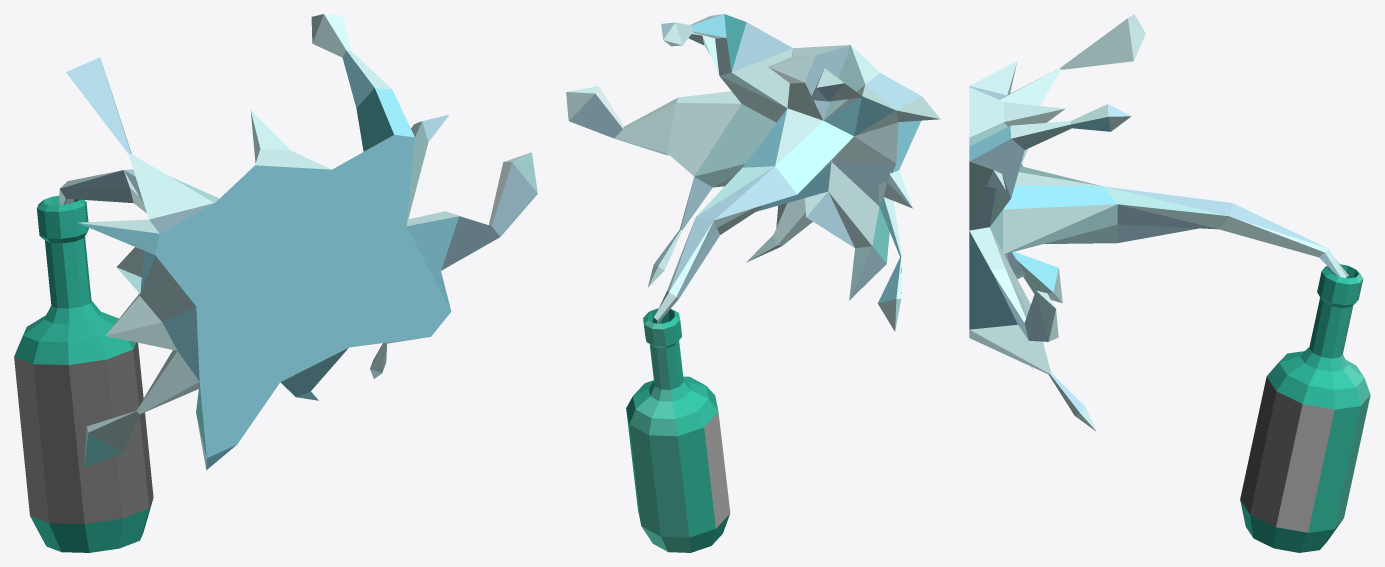
Rendered from statue_4.fbx.
3 renders of one model, left to right at view 1: azimuth 30°, elevation 25°; view 2: azimuth 150°, elevation 25°; view 3: azimuth 270°, elevation 25°, orthographic. The views are drawn at different scales.
Parts seen in each view (by area): view 1: statue_4; view 2: statue_4; view 3: statue_4.
Part boxes in pixels (x1=…): statue_4: x1=14, y1=14, x2=537, y2=552; statue_4: x1=566, y1=14, x2=940, y2=552; statue_4: x1=969, y1=14, x2=1370, y2=552.
Bounding box in the file's own units: 149 × 173 × 129.
